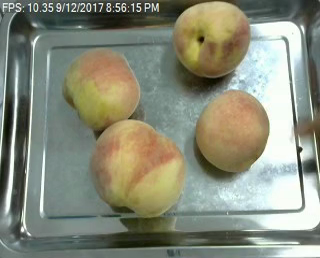Peach: (91, 117, 185, 217), (62, 47, 141, 130), (171, 0, 251, 78), (194, 89, 269, 172)
